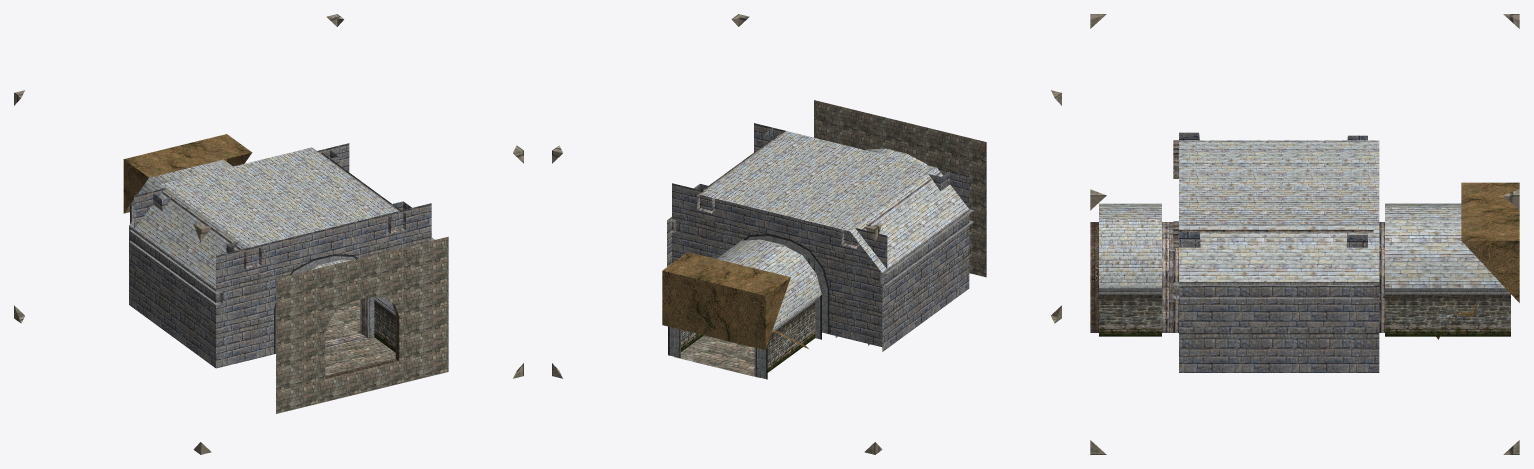
Rendered from lbg_1f.glb.
3 views of the same model, side by side, from view 1: azimuth 30°, elevation 25°; view 2: azimuth 150°, elevation 25°; view 3: azimuth 270°, elevation 25° (orthographic). The views are drawn at different scales.
Parts seen in each view (by area): view 1: lbg_1f-col; view 2: lbg_1f-col; view 3: lbg_1f-col.
Part boxes in pixels (box(x1,y1,x2,y2)): lbg_1f-col: box(14, 14, 523, 454); lbg_1f-col: box(552, 14, 1061, 454); lbg_1f-col: box(1090, 14, 1519, 454).
Bounding box in the file's own units: 15 × 10 × 15.
Materials: 12 (12 with a texture image).
